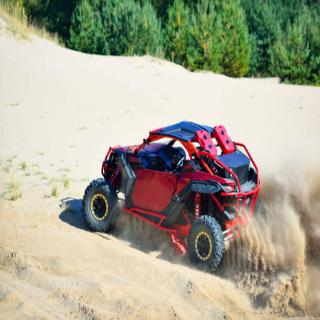Normal_vehicle: (83, 111, 261, 272)
